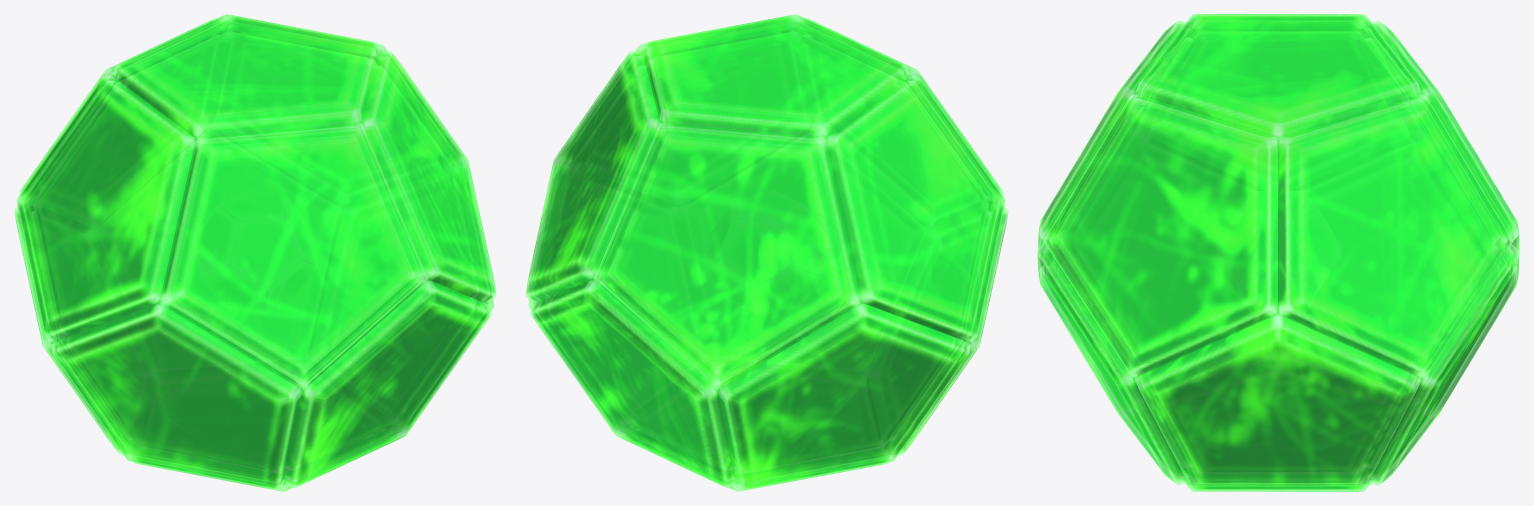
The picture shows the model from 3 angles, left to right: view 1: azimuth 30°, elevation 25°; view 2: azimuth 150°, elevation 25°; view 3: azimuth 270°, elevation 25°; orthographic projection. The views are drawn at different scales.
Parts seen in each view (by area): view 1: Engram.005; view 2: Engram.005; view 3: Engram.005.
Boxes of the visible parts, x1=… form: Engram.005: x1=14, y1=14, x2=496, y2=491; Engram.005: x1=525, y1=14, x2=1008, y2=491; Engram.005: x1=1037, y1=14, x2=1519, y2=491.
Bounding box in the file's own units: 212 × 179 × 202.
1 material, 1 textured.
